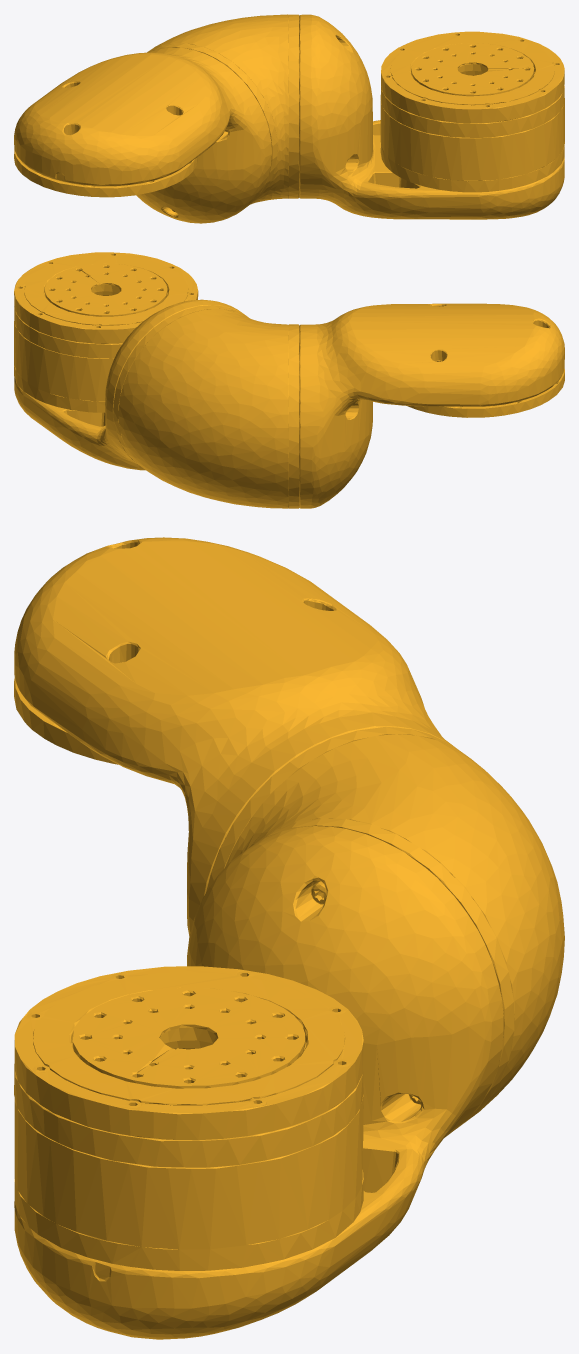
The model's file is IgusReBelLink2.dae.
3 views of the same model, one above another, from view 1: azimuth 30°, elevation 25°; view 2: azimuth 150°, elevation 25°; view 3: azimuth 270°, elevation 25° (orthographic). The views are drawn at different scales.
Visible parts, largest first — view 1: IGUSReBelLink3; view 2: IGUSReBelLink3; view 3: IGUSReBelLink3.
Boxes of the visible parts, <box> form: IGUSReBelLink3: <box>14,14,564,223</box>; IGUSReBelLink3: <box>14,252,564,508</box>; IGUSReBelLink3: <box>14,537,564,1339</box>.
Bounding box in the file's own units: 0.3466 × 0.1656 × 0.1192.
